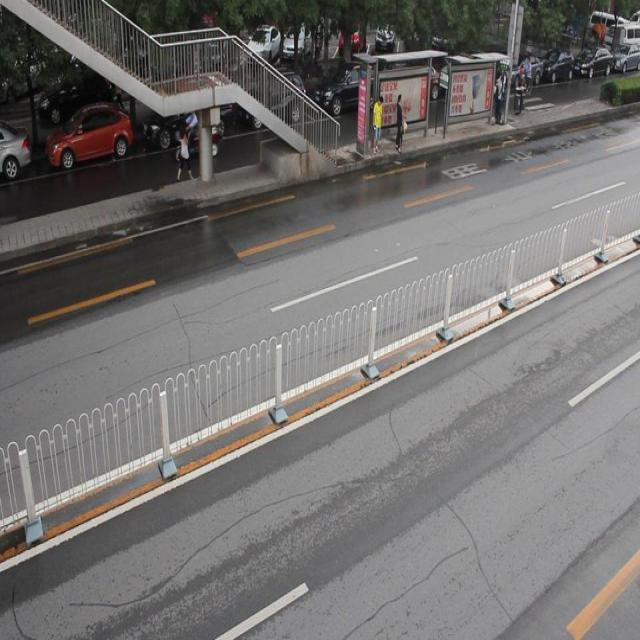car: (49, 106, 136, 171), (144, 92, 236, 144), (316, 62, 391, 119), (241, 72, 310, 133), (1, 125, 35, 181)
